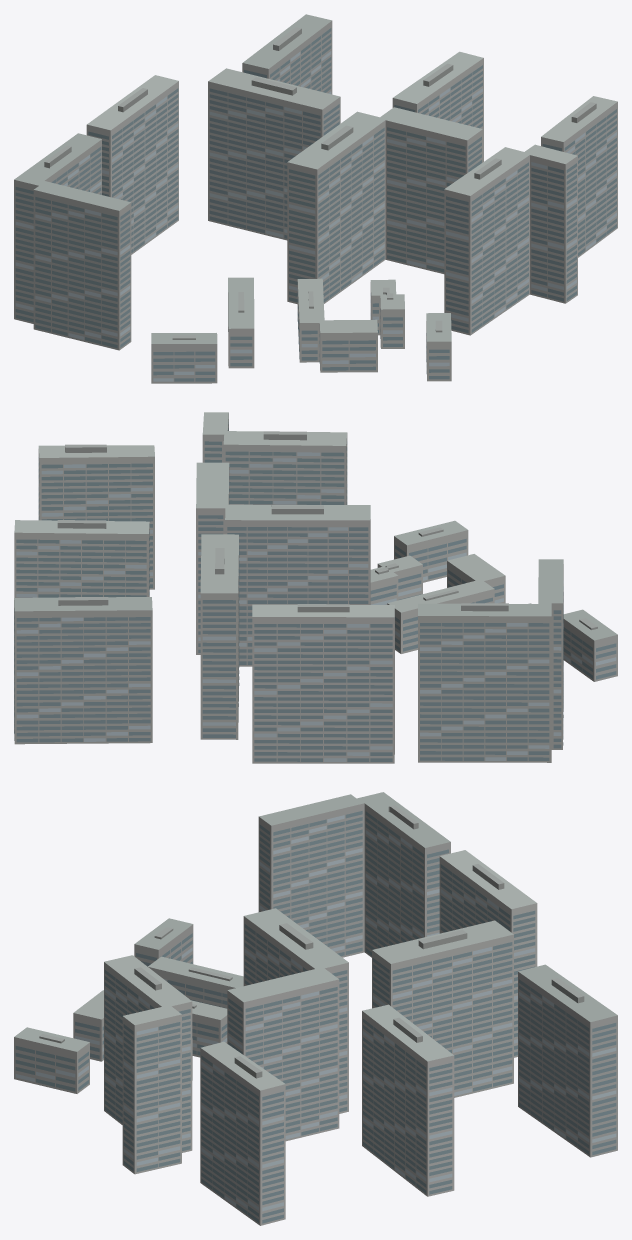
The model's file is apt-a15176202.glb.
3 views of the same model, one above another, from view 1: azimuth 30°, elevation 25°; view 2: azimuth 150°, elevation 25°; view 3: azimuth 270°, elevation 25° (orthographic). The views are drawn at different scales.
Parts seen in each view (by area): view 1: apt-a15176202; view 2: apt-a15176202; view 3: apt-a15176202.
Boxes of the visible parts, x1,y1,x2,y2 form: apt-a15176202: [14, 14, 617, 383]; apt-a15176202: [14, 412, 617, 763]; apt-a15176202: [14, 792, 617, 1225].
Size of the model in its own units: 265 by 67 by 237.
